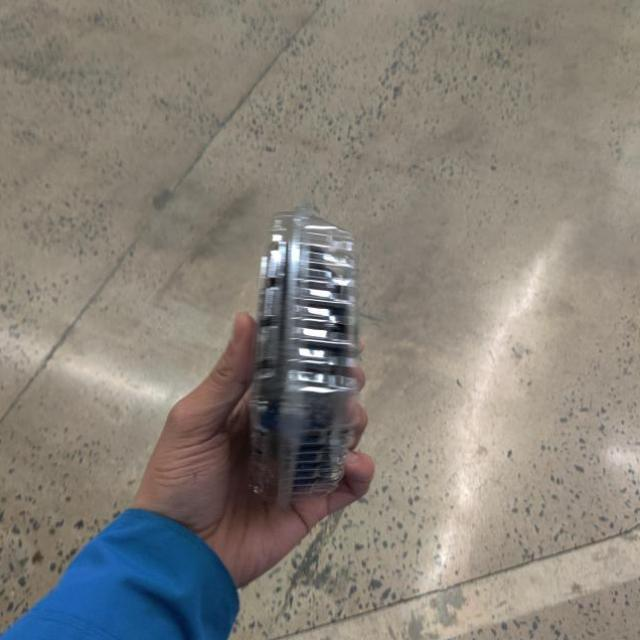Blackberries: (238, 219, 378, 517)
